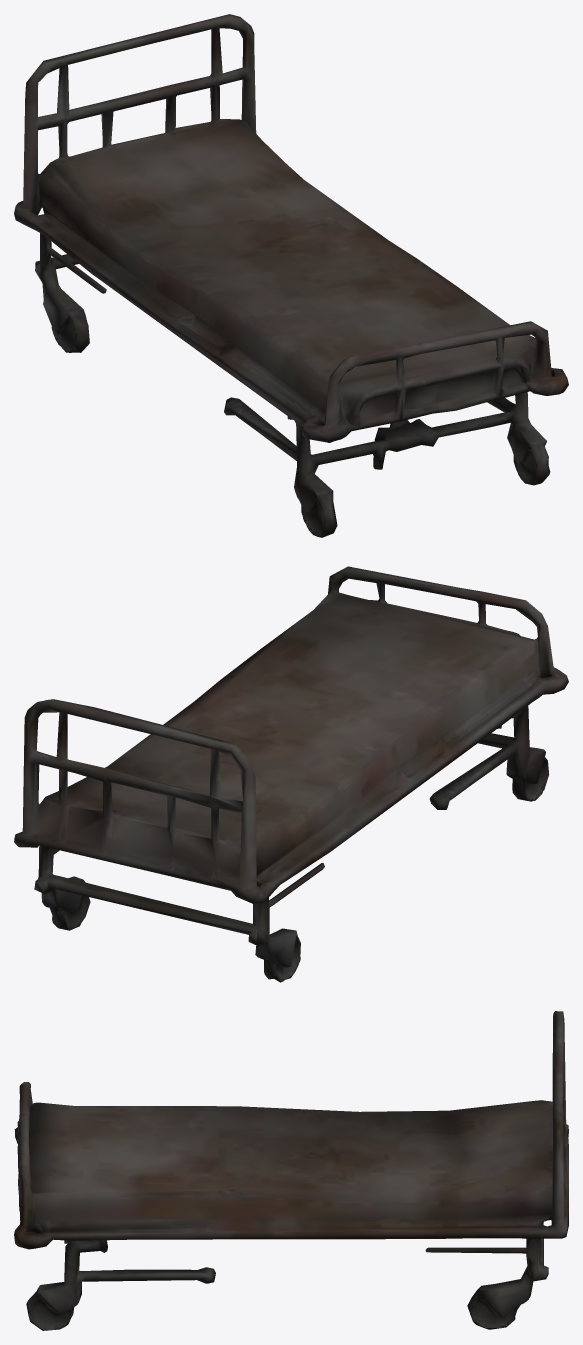
Rendered from simple-iron-asylum-bed-v001.glb.
3 views of the same model, one above another, from view 1: azimuth 30°, elevation 25°; view 2: azimuth 150°, elevation 25°; view 3: azimuth 270°, elevation 25° (orthographic). The views are drawn at different scales.
Parts seen in each view (by area): view 1: simple-iron-asylum-bed; view 2: simple-iron-asylum-bed; view 3: simple-iron-asylum-bed.
Part boxes in pixels (x1,y1,x2,y2): simple-iron-asylum-bed: (14, 14, 568, 537); simple-iron-asylum-bed: (14, 566, 568, 982); simple-iron-asylum-bed: (14, 1011, 568, 1330).
Bounding box in the file's own units: 1.22 × 1.17 × 2.53.
Materials: 1 (1 with a texture image).
